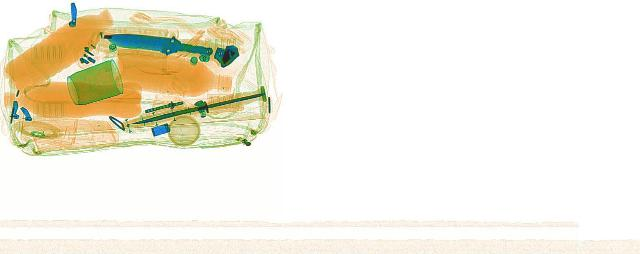Knife: (118, 87, 276, 129), (91, 26, 222, 60)
